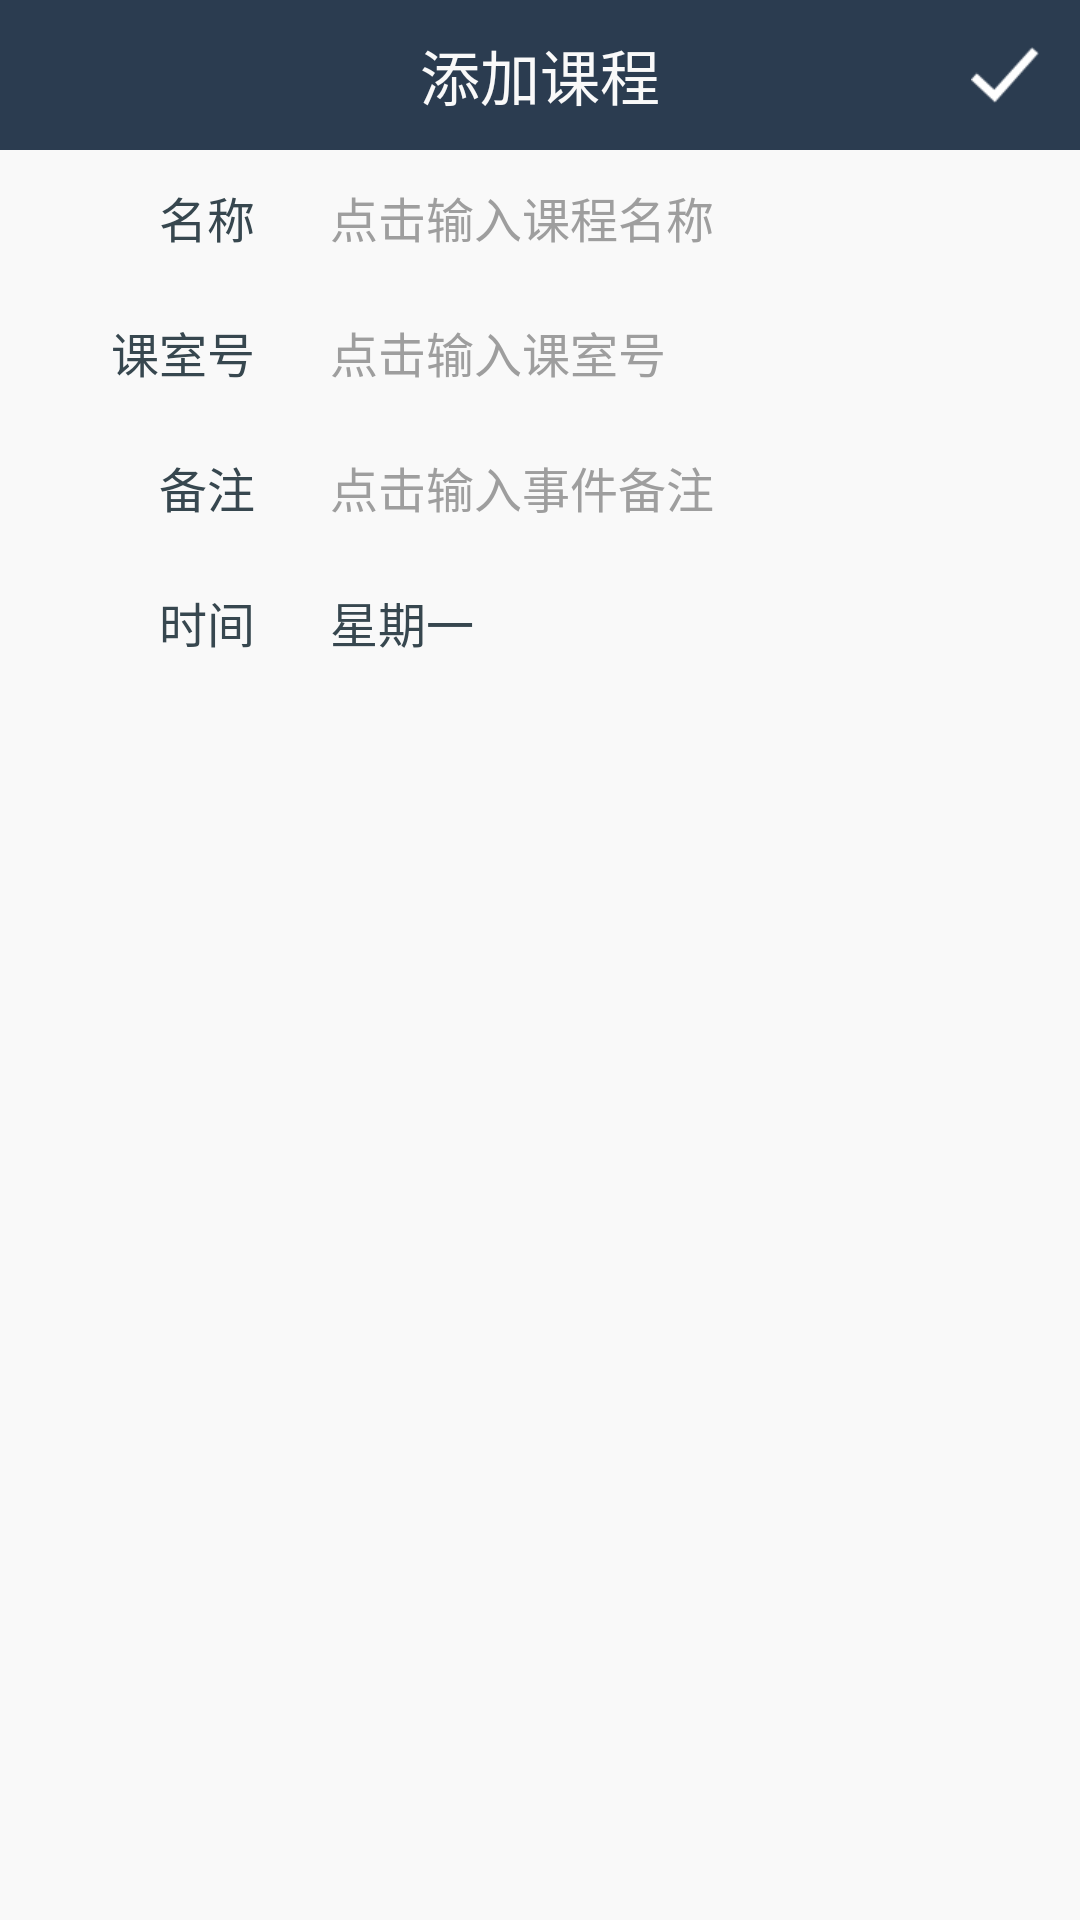

Locate icon controls on the screen. Image size 1080px x 1920px, boxes as (x1, y1, x2, y2).
titlebar tick: (971, 47, 1039, 103)
